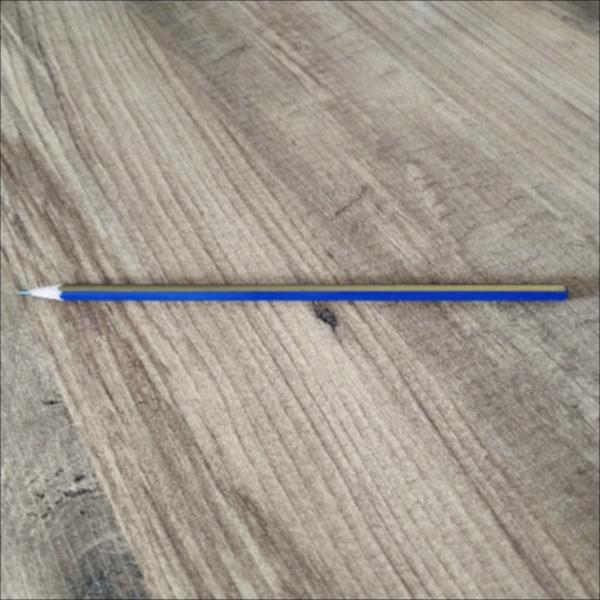pencil: (10, 279, 580, 307)
